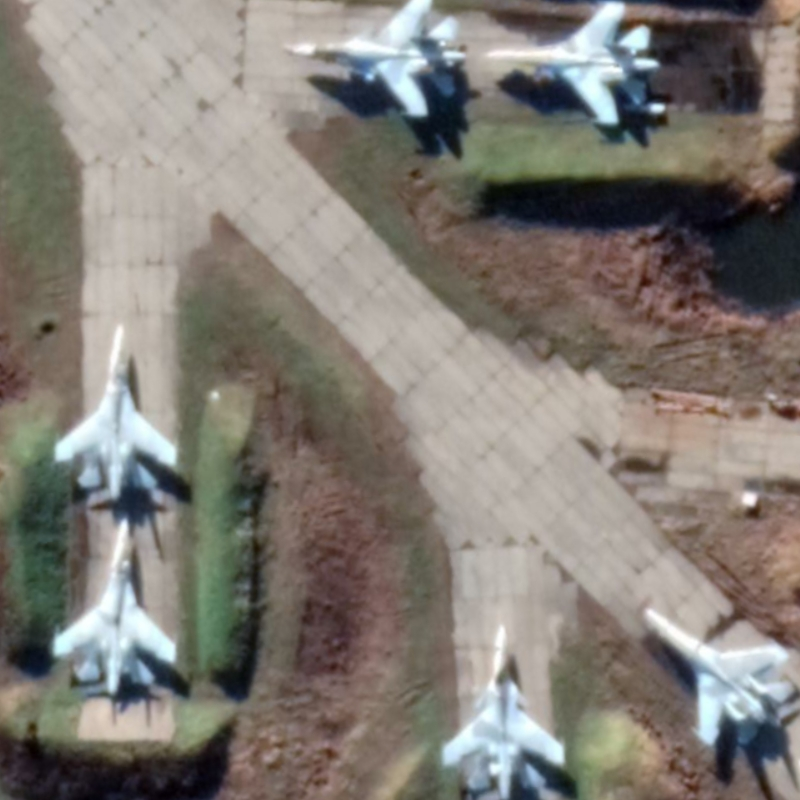A1: (48, 513, 180, 699), (49, 320, 181, 506), (482, 1, 664, 131), (638, 603, 793, 753)
A19: (437, 622, 568, 800), (283, 1, 470, 122)
